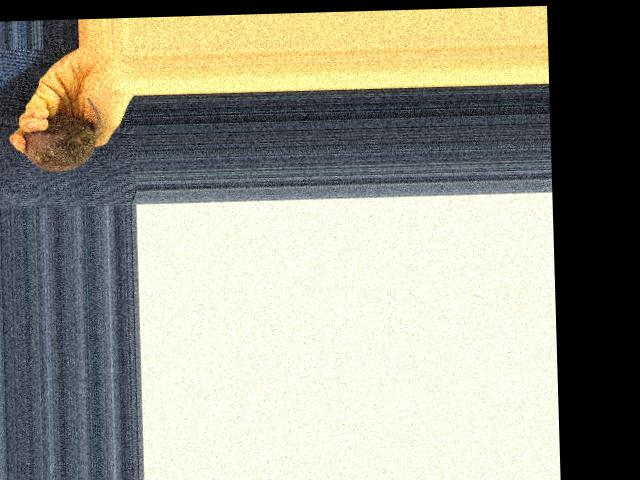beet: (23, 96, 103, 171)
